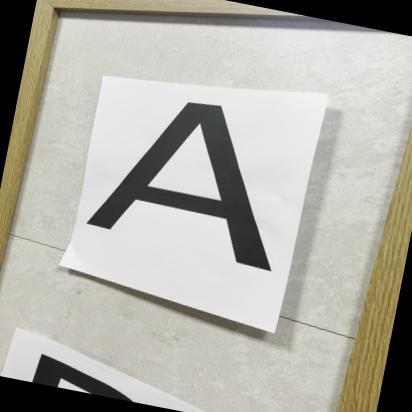seat: (65, 78, 320, 296)
